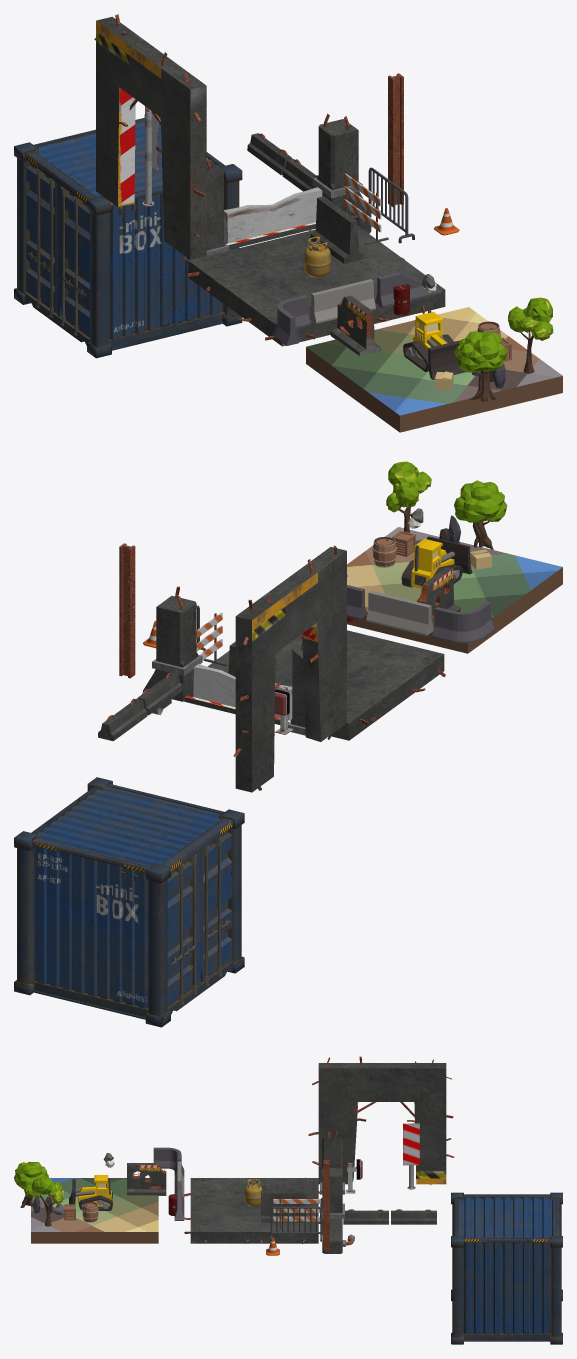
The model's file is dozer.glb.
3 renders of one model, top to bottom at view 1: azimuth 30°, elevation 25°; view 2: azimuth 150°, elevation 25°; view 3: azimuth 270°, elevation 25°, orthographic. The views are drawn at different scales.
Parts seen in each view (by area): view 1: Container, WallDoor, Floor, FloorConcrete, SlidingDoorFrame, SlidingDoor, Tree.002, Wall, Beam, WallDamaged, Tree.003, BarrierDouble (+10 smaller); view 2: Container, WallDoor, Floor, FloorConcrete, SlidingDoorFrame, Beam, Tree.002, WallStraight, BarrierDouble, WallCurve, Tree.003, SlidingDoor (+4 smaller); view 3: Container, WallDoor, FloorConcrete, Floor, SlidingDoorFrame, BarrierDouble, WallDamaged, Wall, Sign, Tree.003, Fence, FenceSafety (+5 smaller).
Boxes of the visible parts, x1,y1,x2,y2 form: Container: (14, 114, 242, 358); WallDoor: (94, 14, 206, 260); Floor: (306, 307, 562, 432); FloorConcrete: (188, 226, 445, 346); SlidingDoorFrame: (206, 113, 371, 255); SlidingDoor: (224, 187, 322, 243); Tree.002: (454, 331, 507, 401); Wall: (310, 196, 364, 263); Beam: (388, 73, 403, 206); WallDamaged: (330, 295, 381, 356); Tree.003: (508, 297, 553, 373); BarrierDouble: (247, 133, 317, 191); Container: (14, 777, 244, 1027); WallDoor: (233, 545, 349, 792); Floor: (347, 527, 562, 653); FloorConcrete: (191, 630, 445, 740); SlidingDoorFrame: (143, 586, 305, 735); Beam: (119, 543, 135, 678); Tree.002: (454, 480, 507, 549); WallStraight: (366, 591, 433, 635); BarrierDouble: (98, 672, 182, 741); WallCurve: (432, 601, 494, 643); Tree.003: (386, 461, 431, 532); SlidingDoor: (193, 664, 292, 720); Container: (451, 1192, 562, 1344); WallDoor: (308, 1056, 454, 1184); FloorConcrete: (184, 1177, 320, 1243); Floor: (31, 1178, 158, 1243); SlidingDoorFrame: (320, 1130, 354, 1253); BarrierDouble: (343, 1209, 436, 1224); WallDamaged: (127, 1163, 166, 1195); Wall: (261, 1191, 306, 1222); Sign: (403, 1123, 419, 1189); Tree.003: (24, 1177, 63, 1226); Fence: (270, 1206, 321, 1241); FenceSafety: (273, 1198, 322, 1234).
Bounding box in the file's own units: 12.6 × 16.62 × 34.36.
12 materials, 12 textured.
